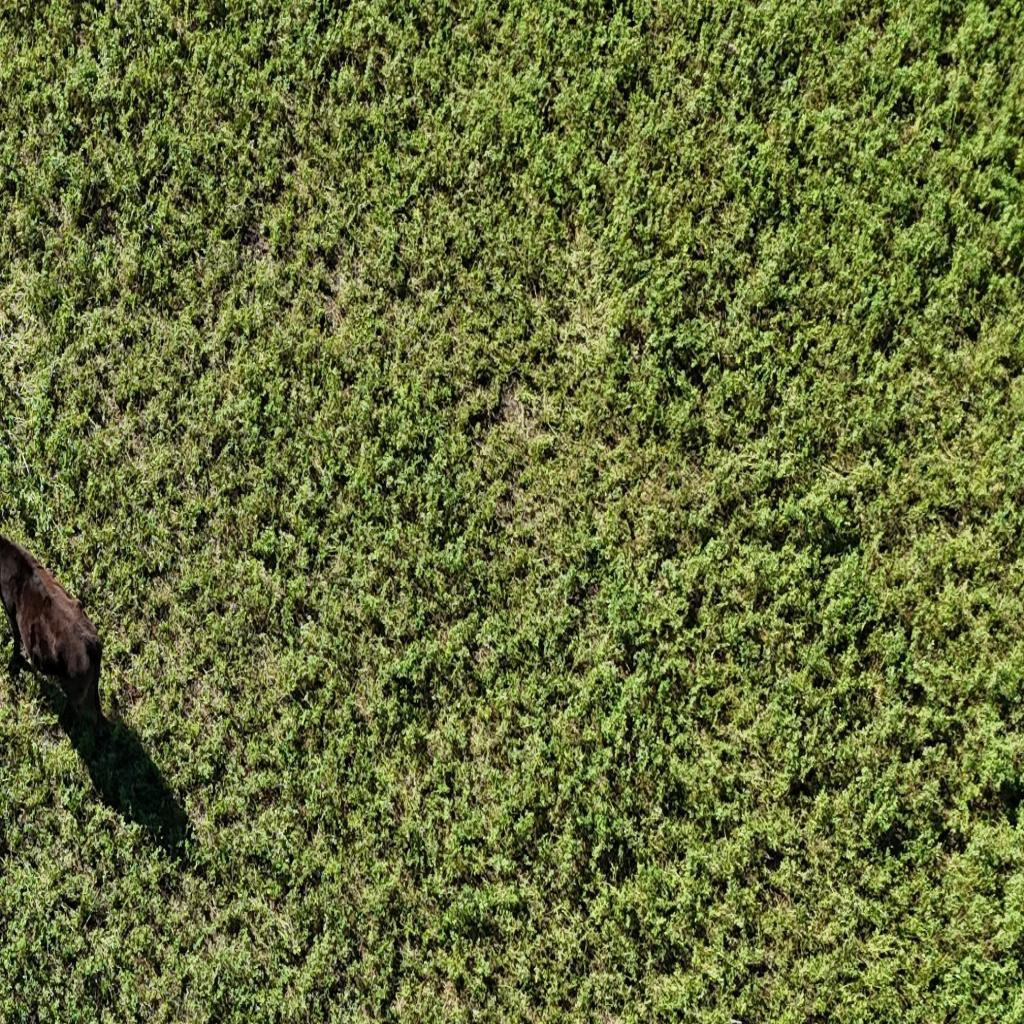cow: (0, 507, 121, 744)
